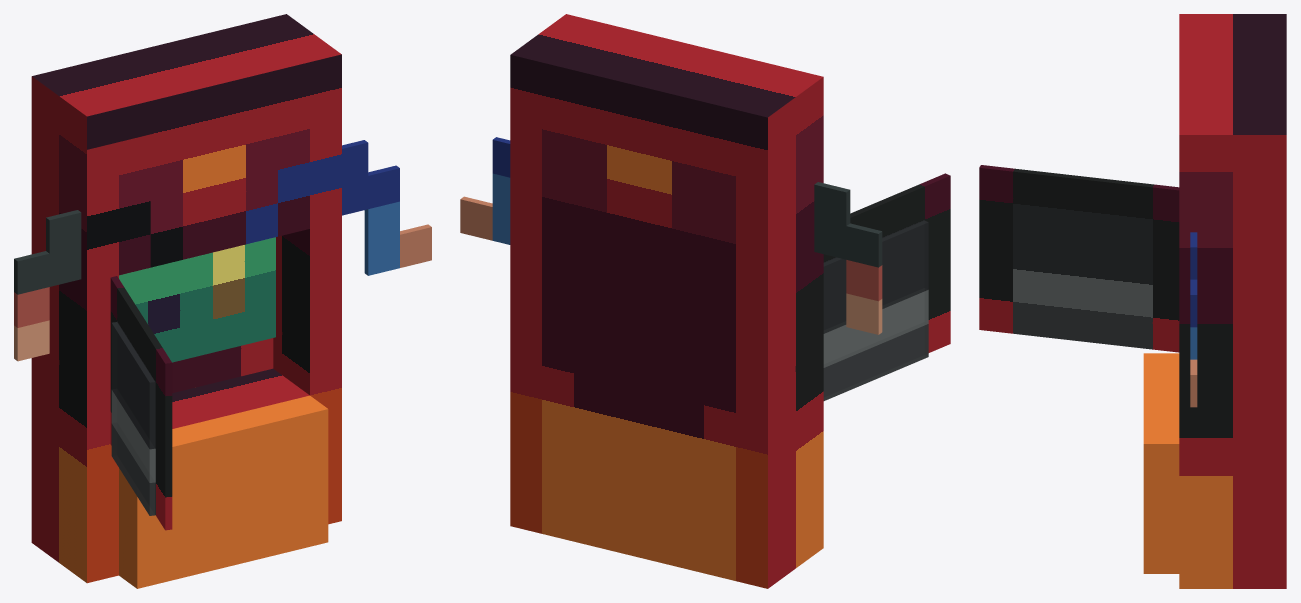
The model's file is fire_alarm_panel_open.glb.
3 renders of one model, left to right at view 1: azimuth 30°, elevation 25°; view 2: azimuth 150°, elevation 25°; view 3: azimuth 270°, elevation 25°, orthographic. The views are drawn at different scales.
Parts seen in each view (by area): view 1: Continuous_Housing, Pull_Handle, Removable_Circuit_Board, Service_Wire_Right, Indicator_Glass, Service_Wire_Left, Service_Cover; view 2: Continuous_Housing, Indicator_Glass, Service_Cover, Service_Wire_Left, Service_Wire_Right; view 3: Continuous_Housing, Service_Cover, Pull_Handle, Service_Wire_Right.
Boxes of the visible parts, x1,y1,x2,y2 form: Continuous_Housing: [31, 14, 341, 583]; Pull_Handle: [119, 395, 328, 588]; Removable_Circuit_Board: [119, 237, 275, 362]; Service_Wire_Right: [342, 140, 431, 275]; Indicator_Glass: [111, 322, 155, 515]; Service_Wire_Left: [14, 210, 81, 361]; Service_Cover: [110, 276, 172, 530]; Continuous_Housing: [510, 14, 823, 588]; Indicator_Glass: [823, 220, 928, 400]; Service_Cover: [823, 173, 950, 352]; Service_Wire_Left: [814, 182, 882, 334]; Service_Wire_Right: [460, 137, 510, 244]; Continuous_Housing: [1179, 14, 1286, 588]; Service_Cover: [979, 165, 1179, 352]; Pull_Handle: [1143, 353, 1179, 573]; Service_Wire_Right: [1190, 232, 1197, 407].
Bounding box in the file's own units: 0.3656 × 0.3938 × 0.2417.
Materials: 2 (2 with a texture image).
